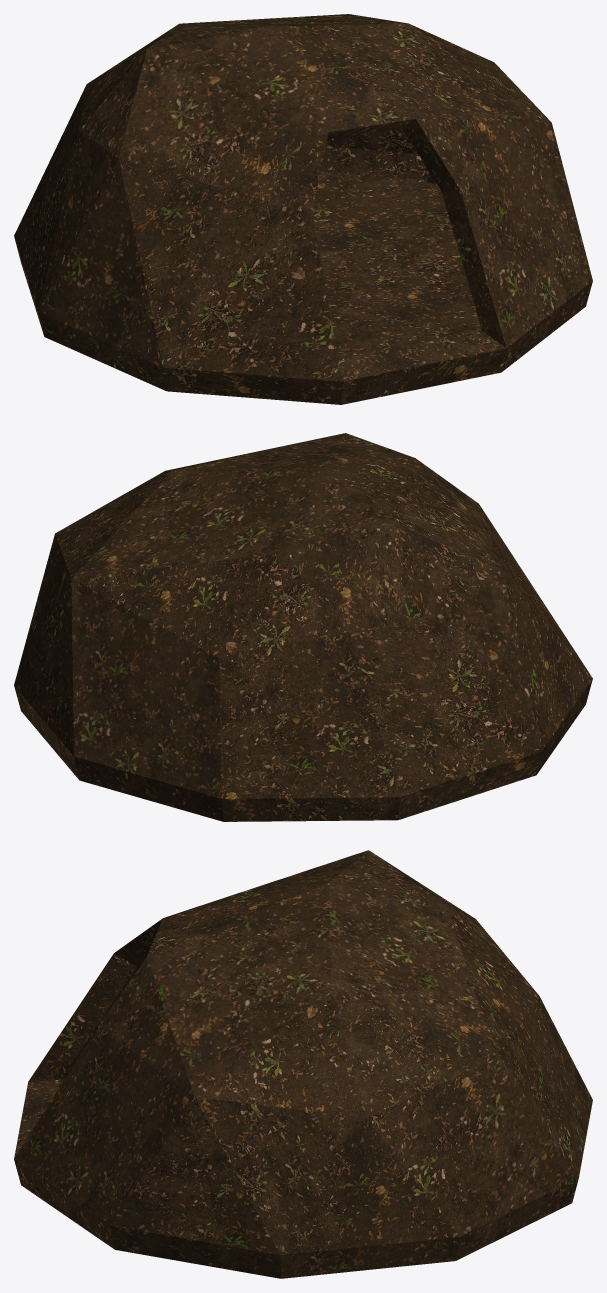
Rendered from burrow.glb.
The picture shows the model from 3 angles, top to bottom: view 1: azimuth 30°, elevation 25°; view 2: azimuth 150°, elevation 25°; view 3: azimuth 270°, elevation 25°; orthographic projection. The views are drawn at different scales.
Parts seen in each view (by area): view 1: Icosphere; view 2: Icosphere; view 3: Icosphere.
Boxes of the visible parts, x1,y1,x2,y2 form: Icosphere: [14, 14, 592, 404]; Icosphere: [14, 433, 592, 821]; Icosphere: [14, 850, 592, 1278].
Size of the model in its own units: 1.99 by 0.9594 by 1.94.
1 material, 1 textured.
